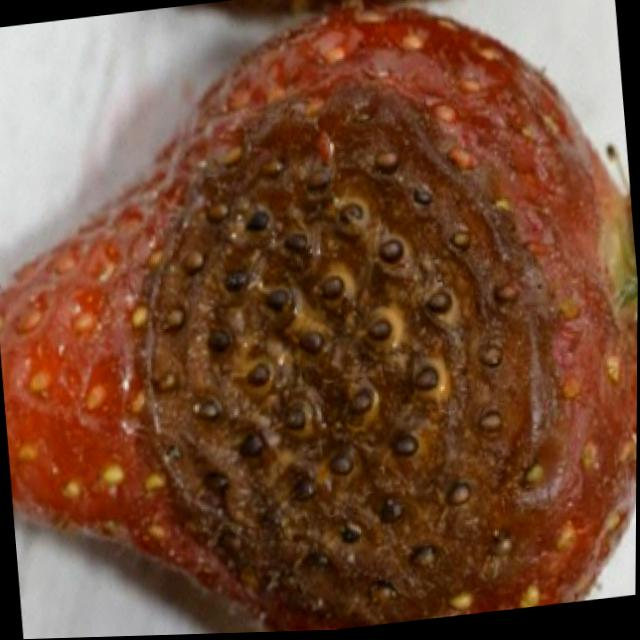Anthracnose Fruit Rot: (134, 77, 564, 633)
